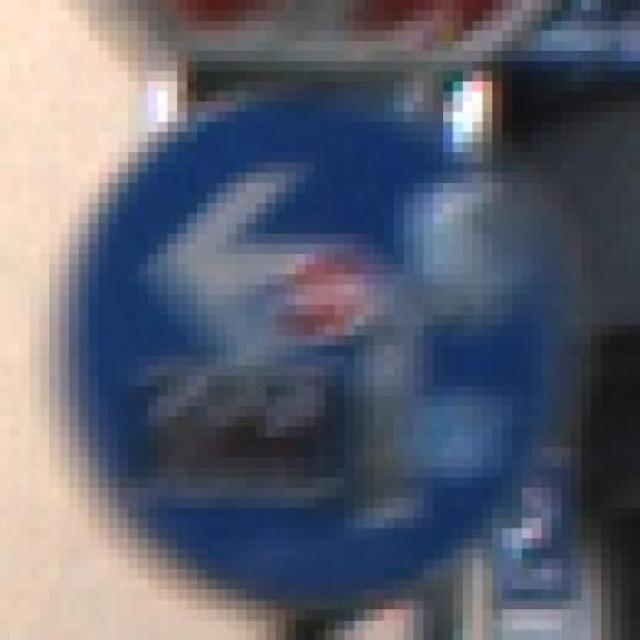Turn left ahead: (50, 92, 532, 599)
